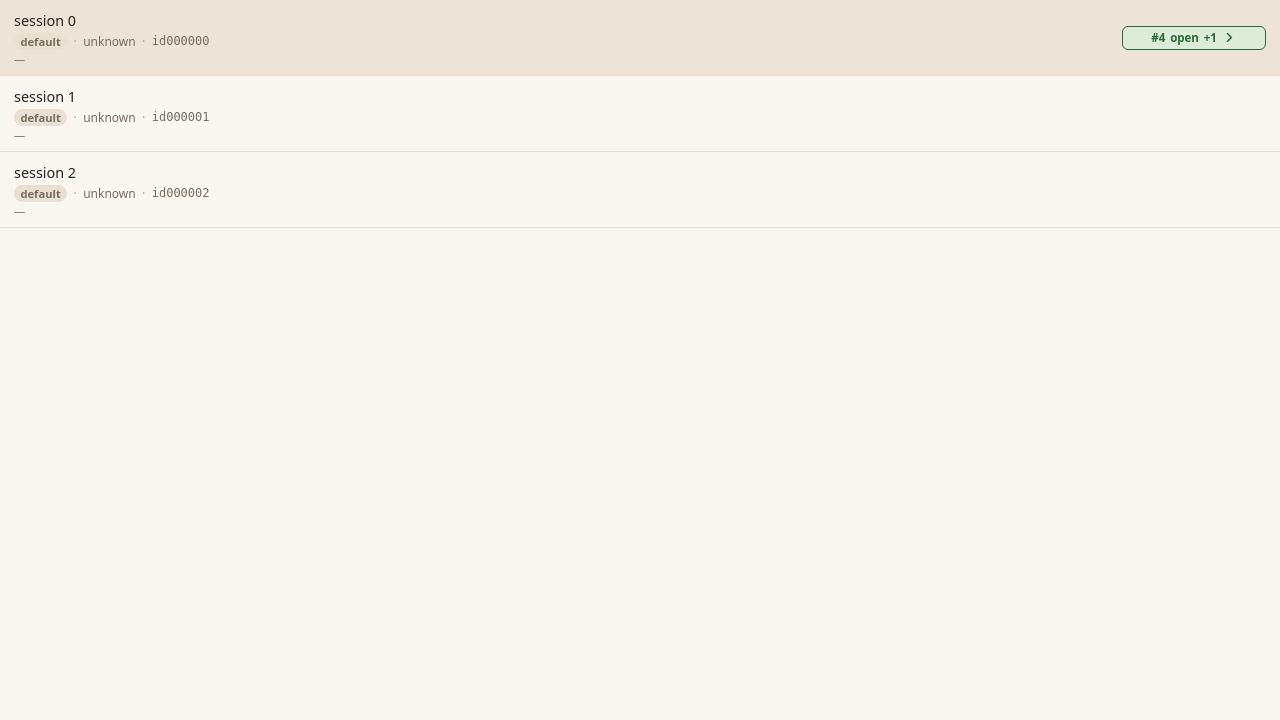
Scenario: the popover closes when its session leaves the list
Click the button with test id "pr-button" at (1194, 38), box top-left (1122, 26), bottom-right (1266, 50)
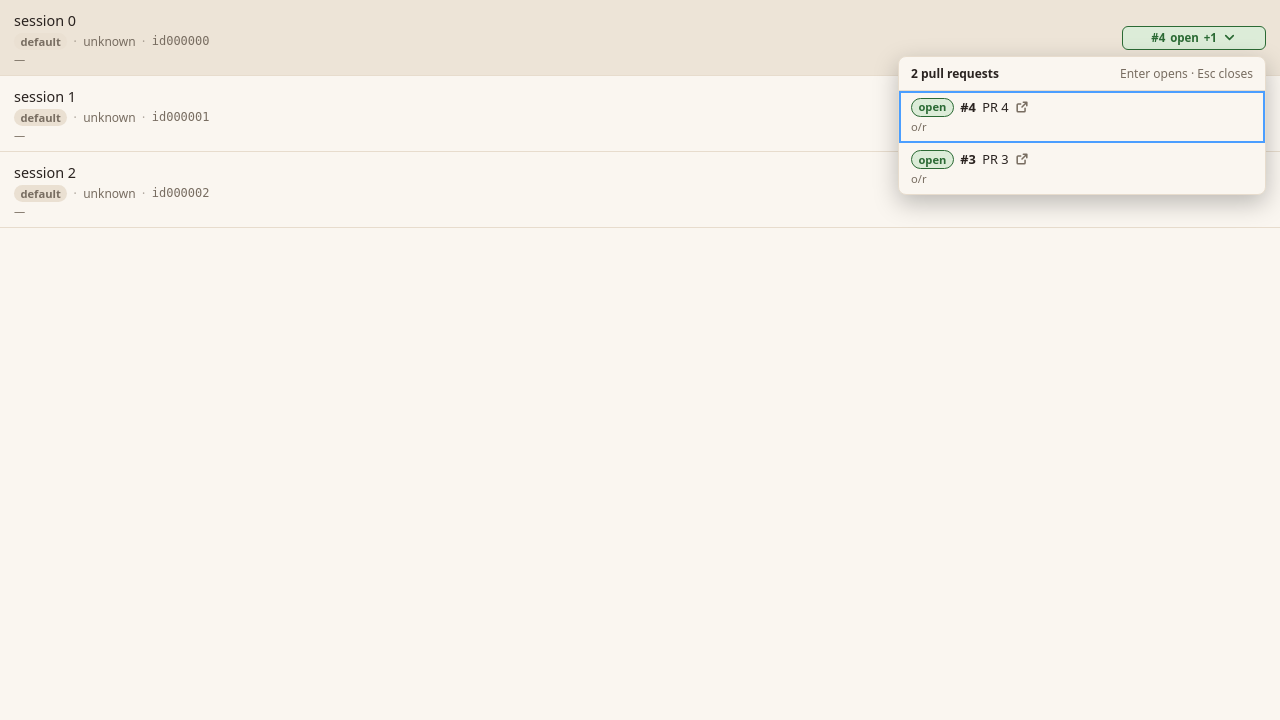
Check: the dialog is shown, box top-left (898, 56), bottom-right (1266, 195)
